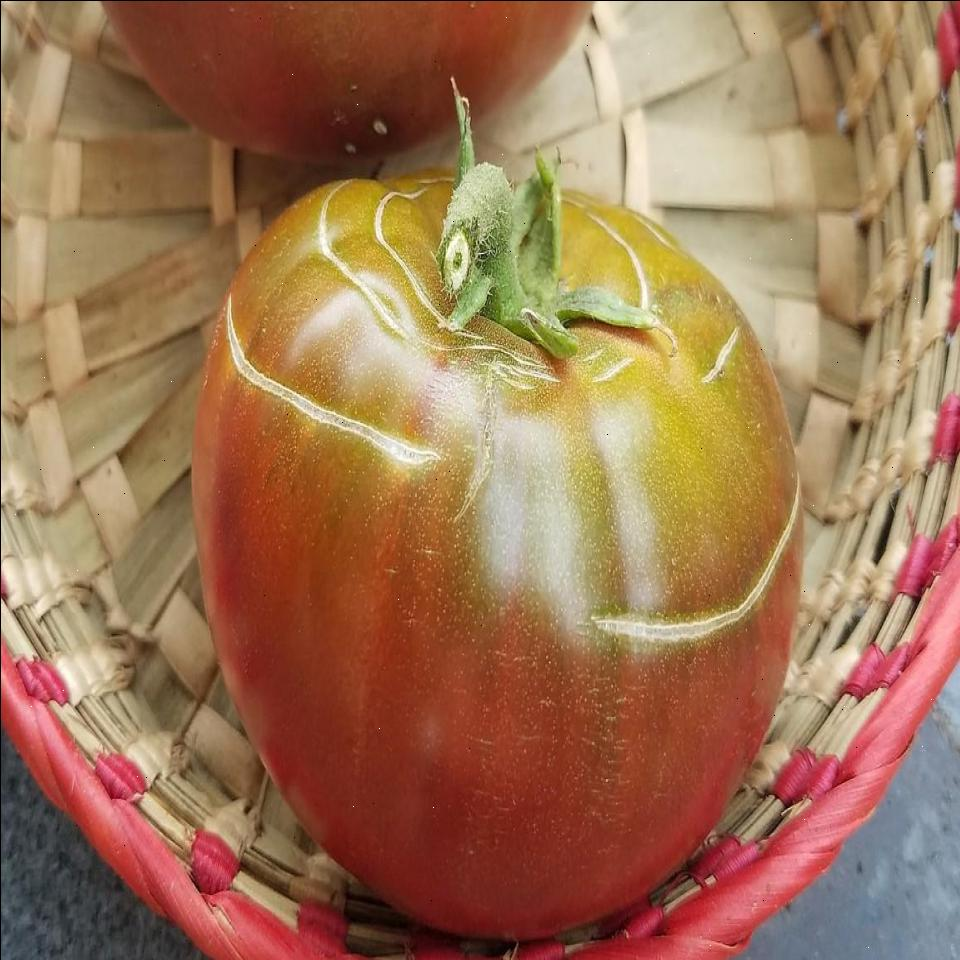Cracking: (303, 172, 675, 396), (194, 274, 480, 494), (596, 438, 812, 694), (676, 297, 747, 431)
